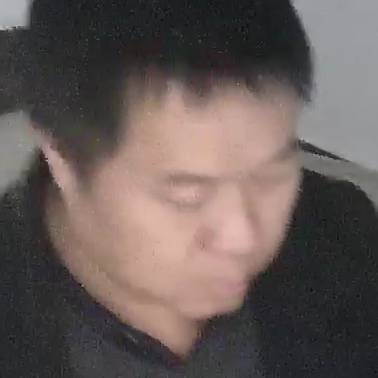cb: (37, 30, 327, 320)
